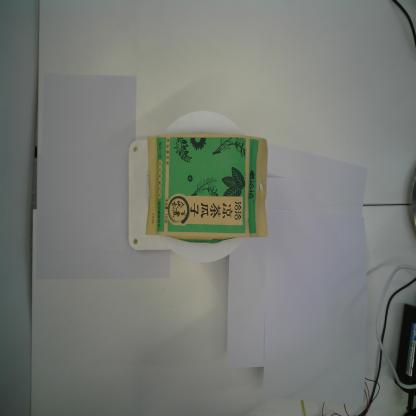Dried Food: (144, 131, 269, 246)
